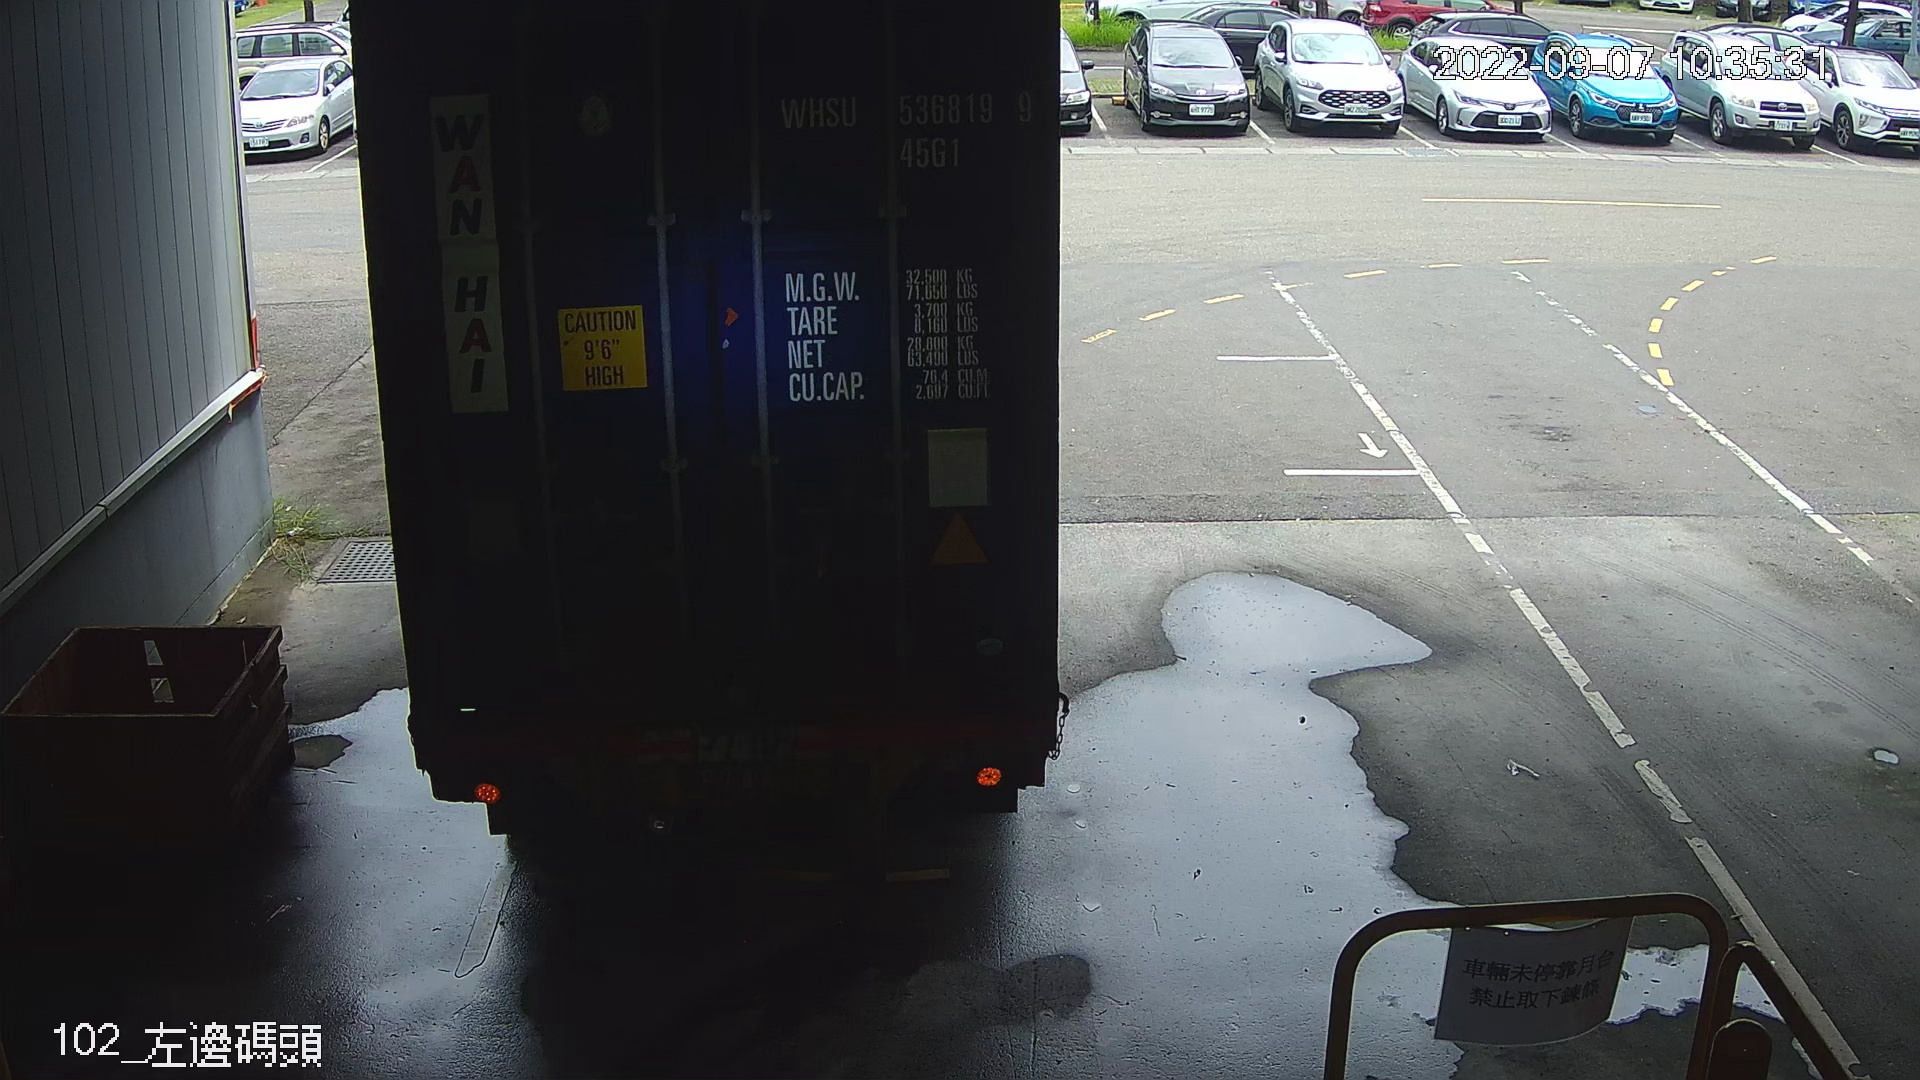container: (771, 79, 1040, 179)
